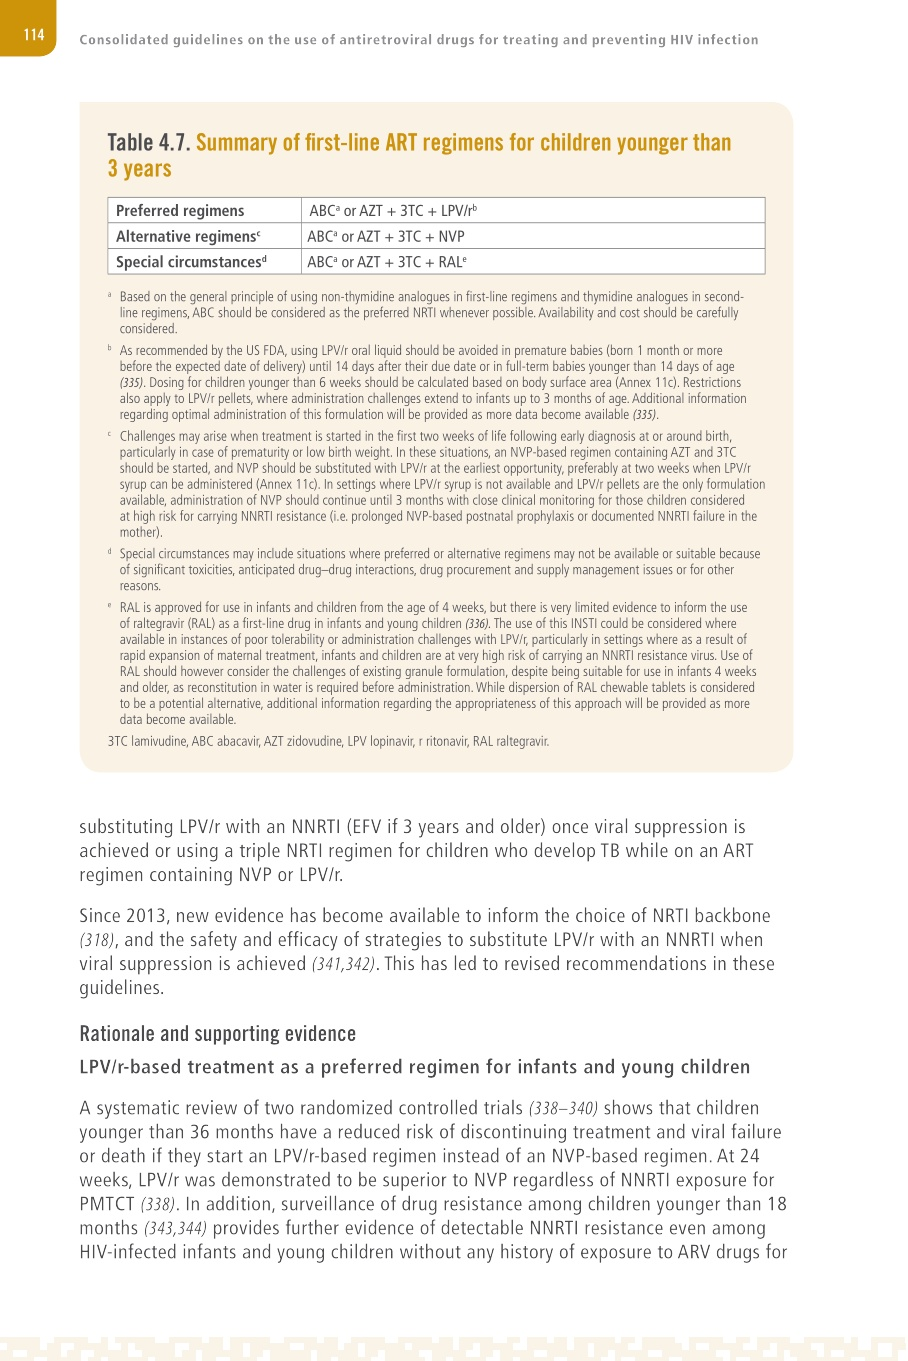full_lined: (98, 188, 769, 283)
